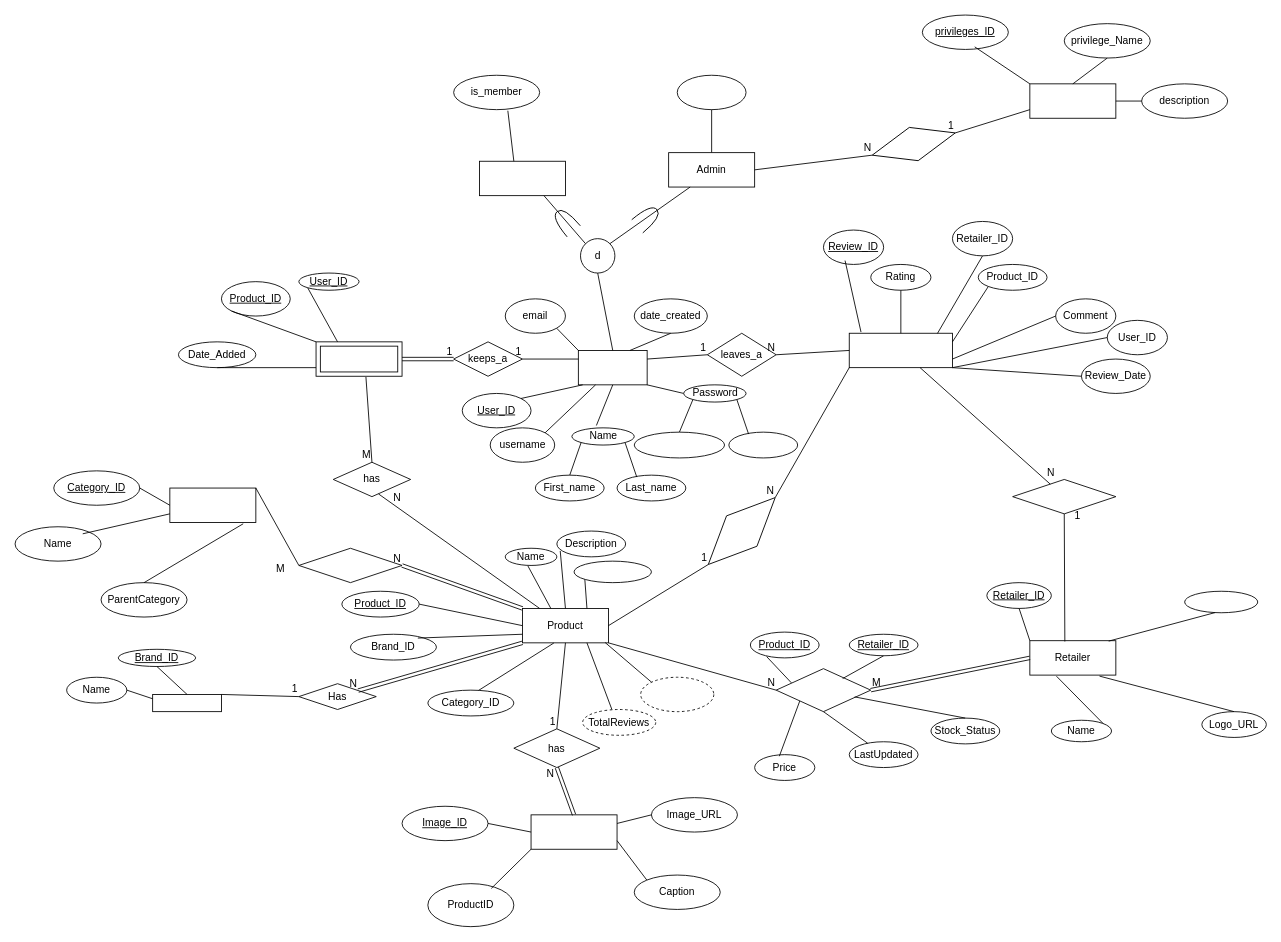
Some shapes in this 1281 by 942 pixel diagram are drawn without their labels. Each missing label, with the centre of its shape:
Associated: the point at 1064,496
AvgRating: the point at 677,694
Belong_to: the point at 350,565
Brand: the point at 186,703
Category: the point at 212,504
Customer: the point at 522,178
hashed_password: the point at 679,444
Image: the point at 573,831
is: the point at 913,143
left-on: the point at 741,530
Privilege: the point at 1072,100
privilege_ID: the point at 711,92
Review: the point at 900,350
salt: the point at 763,444
Sells: the point at 823,690
Specifications: the point at 612,571
User: the point at 612,367
Website: the point at 1221,601
Wishlist: the point at 358,358
